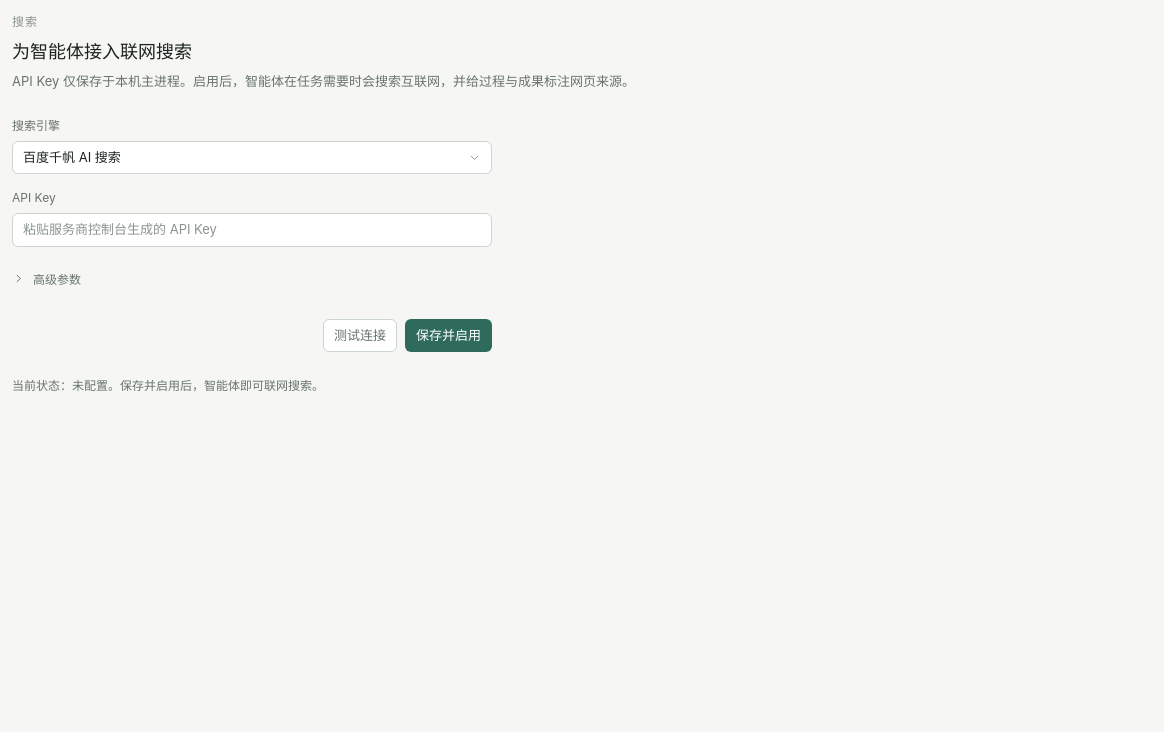
Test: 搜索设置反馈路由（docs/10 §11.5.1） › 连接成功走瞬时 toast，不留常驻内联横幅
Click the button "测试连接": (360, 336) [323,319,397,352]
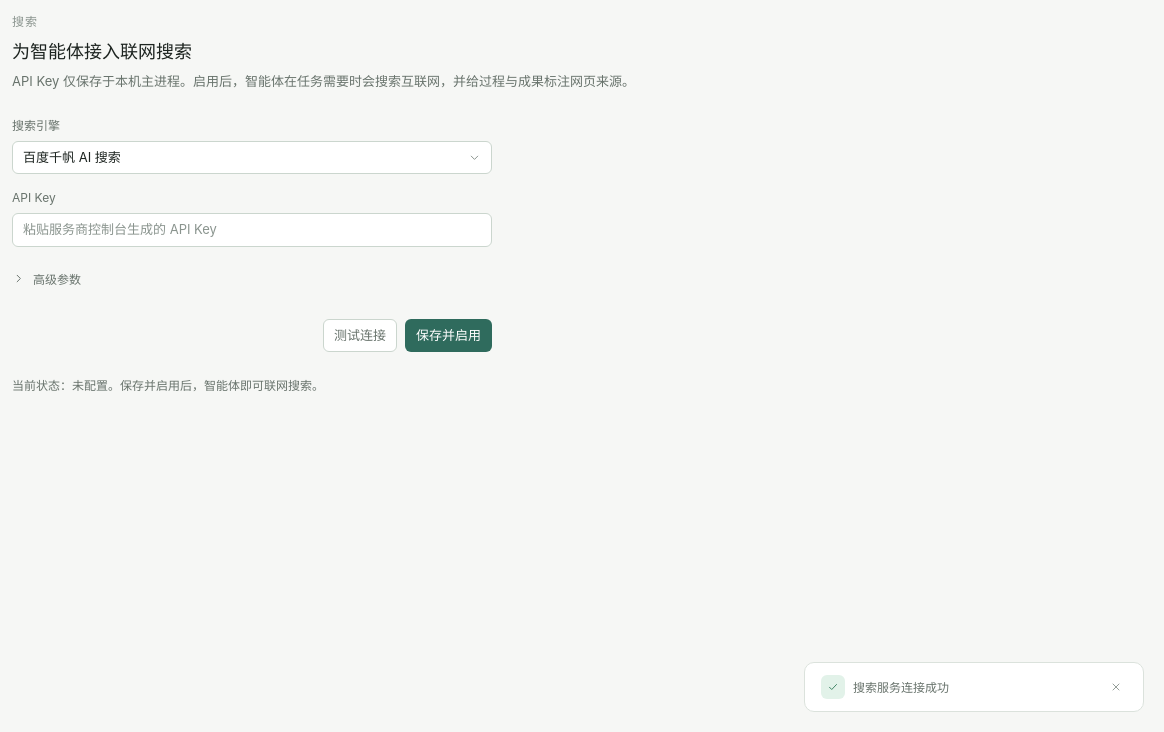
Check: the text "搜索服务连接成功" is shown, box [853,680,949,695]
